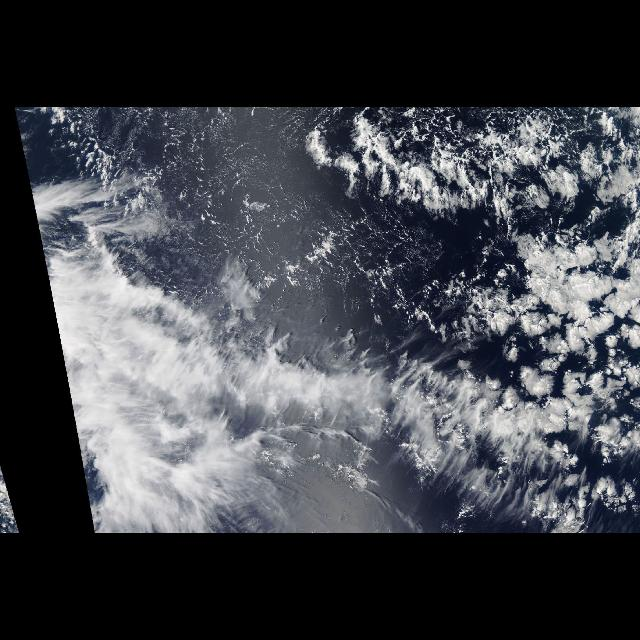Flower: (452, 217, 640, 458)
